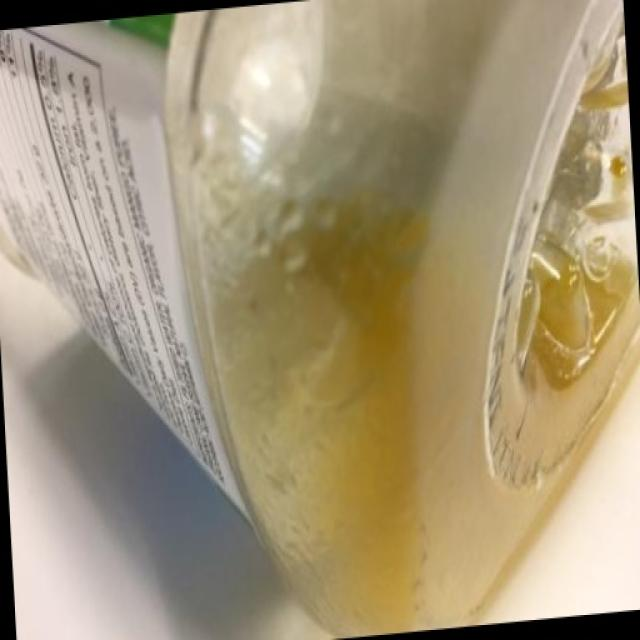plastico: (10, 0, 632, 640)
